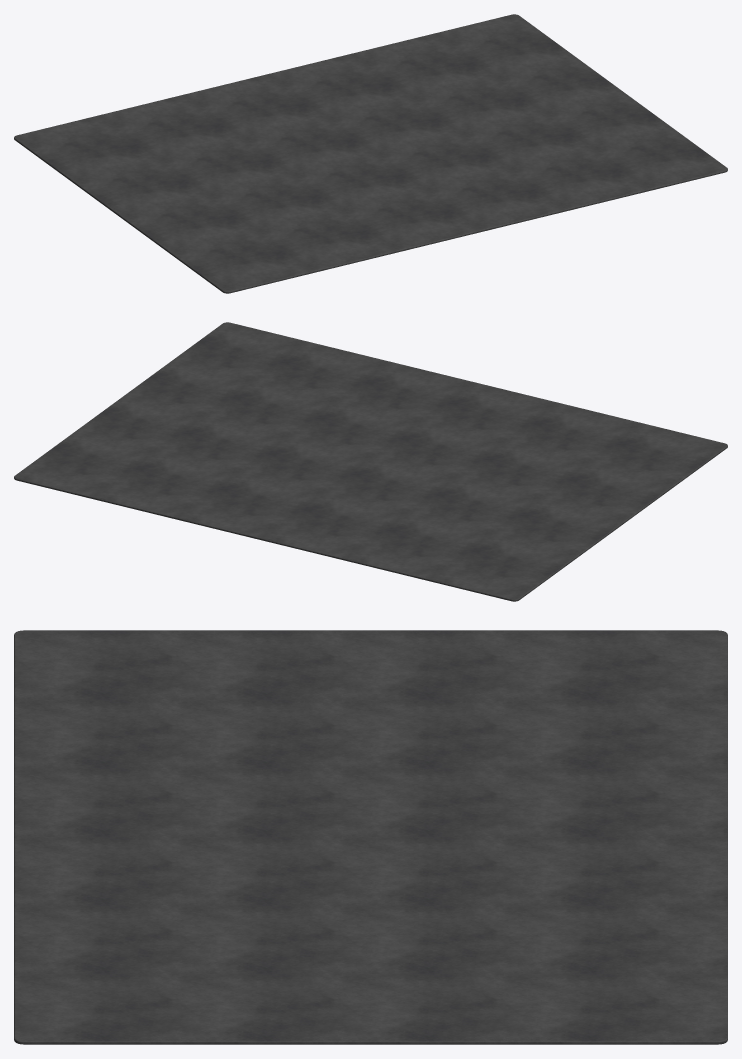
File: rug.gltf
3 renders of one model, top to bottom at view 1: azimuth 30°, elevation 25°; view 2: azimuth 150°, elevation 25°; view 3: azimuth 270°, elevation 25°, orthographic. The views are drawn at different scales.
Parts seen in each view (by area): view 1: Rug_Body; view 2: Rug_Body; view 3: Rug_Body.
Part boxes in pixels (<box>): Rug_Body: <box>14,14,727,293</box>; Rug_Body: <box>14,322,727,601</box>; Rug_Body: <box>14,630,727,1044</box>.
Size of the model in its own units: 3 by 0.0121 by 2.2.
Materials: 1 (1 with a texture image).
